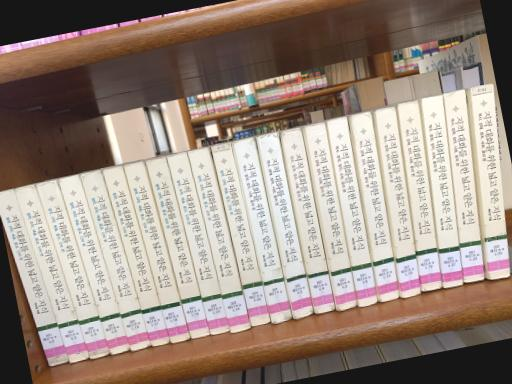book-spine: (14, 185, 89, 365), (35, 180, 110, 359), (58, 175, 131, 355), (102, 166, 171, 347), (81, 171, 150, 352), (123, 162, 191, 344), (0, 188, 69, 367), (187, 147, 251, 333), (145, 156, 210, 338), (166, 152, 229, 336), (210, 142, 271, 326), (232, 139, 292, 323), (255, 133, 314, 319), (303, 123, 357, 312), (281, 128, 335, 314), (327, 117, 378, 308), (350, 112, 399, 302), (374, 107, 421, 298), (396, 99, 442, 291), (443, 90, 486, 283), (421, 94, 463, 288), (470, 84, 511, 279)
